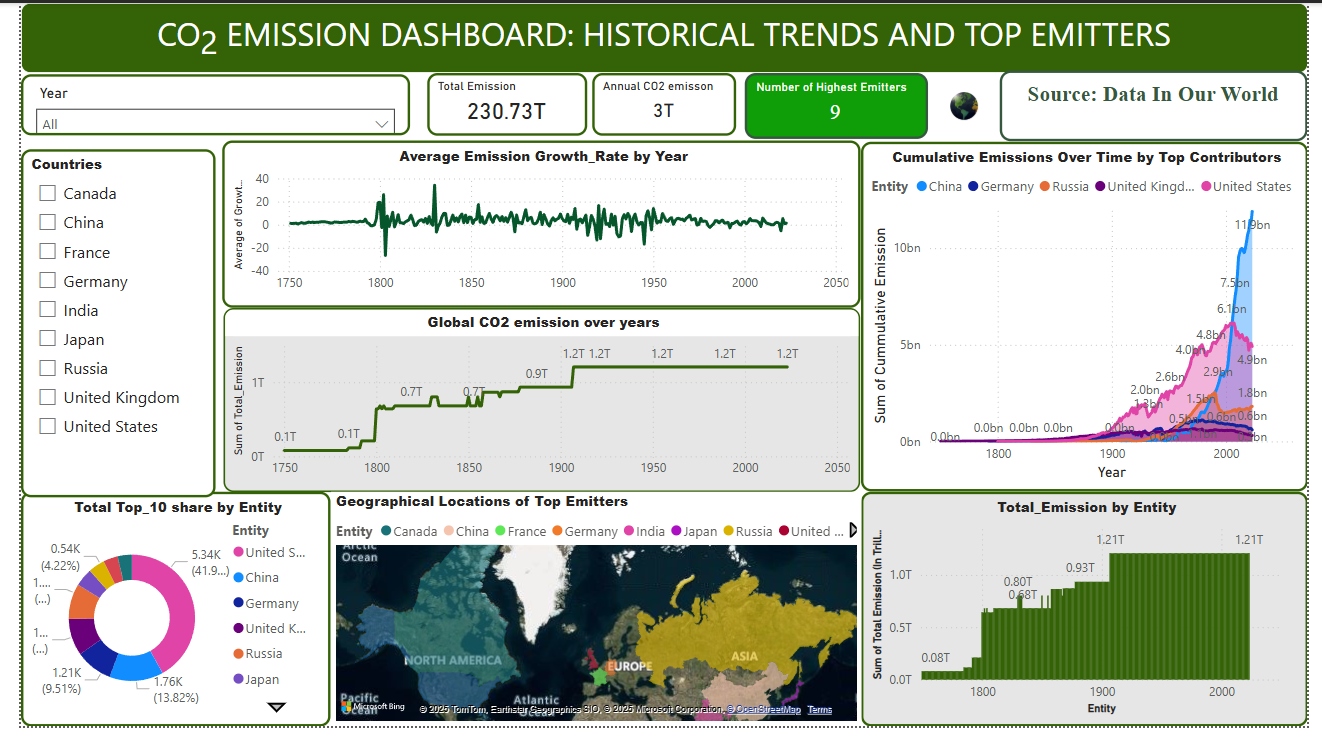

Layout of this report page (visuals, bound fields, positions):
{"tool":"powerbi","page":{"name":"Page 1","canvas":[1280,720],"ordinal":0},"visuals":[{"type":"textbox","box":[0,0,1280.5,69.9],"z":0},{"type":"lineChart","title":"Global CO2 emission over years","fields":{"Category":["Cummulative emissions by Entities.Year"],"Y":["Sum(Cummulative emissions by Entities.Total_Emission)"]},"box":[201.9,303.4,634,183.1],"z":1000},{"type":"lineChart","title":"Average Emission Growth_Rate by Year","fields":{"Y":["Avg(Cummulative emissions by Entities.Growth_Rate)"],"Category":["Cummulative emissions by Entities.Year"]},"box":[200.9,137,635,166.3],"z":2000},{"type":"clusteredColumnChart","title":"Total_Emission by Entity","fields":{"Category":["Cummulative emissions by Entities.Year"],"Y":["Sum(Cummulative emissions by Entities.Total_Emission)"]},"box":[835.9,486.5,444.6,233.3],"z":3000},{"type":"donutChart","title":"Total Top_10 share by Entity","fields":{"Category":["Cummulative emissions by Entities.Entity"],"Y":["Sum(Cummulative emissions by Entities.Top_10 share)"]},"box":[0,486.5,307.9,233.7],"z":4000},{"type":"areaChart","title":"Cumulative Emissions Over Time by Top Contributors","fields":{"Category":["Cummulative emissions by Entities.Year"],"Y":["Sum(Cummulative emissions by Entities.Cummulative Emission)"],"Series":["Cummulative emissions by Entities.Entity"]},"box":[835.9,138.1,444.6,348.4],"z":5000},{"type":"image","box":[907,77.4,61.7,48.1],"z":6000},{"type":"slicer","fields":{"Values":["Cummulative emissions by Entities.Year"]},"box":[0,71.1,387.1,60.7],"z":7000},{"type":"slicer","title":"Countries","fields":{"Values":["Cummulative emissions by Entities.Entity"]},"box":[0,145.4,193.5,346.3],"z":8000},{"type":"card","title":"Total Emission","fields":{"Values":["Sum(Cummulative emissions by Entities.Total_Emission)"]},"box":[403.8,69,159,62.8],"z":9000},{"type":"card","title":"Annual CO2 emisson","fields":{"Values":["Sum(Cummulative emissions by Entities.Annual_Co2_emission)"]},"box":[568.1,69,143.3,62.8],"z":10000},{"type":"card","title":"Number of Highest Emitters","fields":{"Values":["Count(Cummulative emissions by Entities.Top_10 share)"]},"box":[719.8,69,182,65.9],"z":11000},{"type":"textbox","box":[974,67,306.5,70.1],"z":12000},{"type":"filledMap","title":"Geographical Locations of Top Emitters","fields":{"Category":["Cummulative emissions by Entities.Entity"],"Series":["Cummulative emissions by Entities.Entity"]},"box":[308,487,528,233],"z":13000}]}

Visuals, with their boxes in screenshot pixels (x1, y1, x2, y2), scaled from the page's 1280x720 canvas onto the 1322x732 screenshot:
textbox: [left=0, top=0, right=1321, bottom=71]
"Global CO2 emission over years" lineChart: [left=209, top=308, right=863, bottom=495]
"Average Emission Growth_Rate by Year" lineChart: [left=207, top=139, right=863, bottom=308]
"Total_Emission by Entity" clusteredColumnChart: [left=863, top=495, right=1321, bottom=731]
"Total Top_10 share by Entity" donutChart: [left=0, top=495, right=318, bottom=731]
"Cumulative Emissions Over Time by Top Contributors" areaChart: [left=863, top=140, right=1321, bottom=495]
image: [left=937, top=79, right=1000, bottom=128]
slicer - Cummulative emissions by Entities.Year: [left=0, top=72, right=400, bottom=134]
"Countries" slicer: [left=0, top=148, right=200, bottom=500]
"Total Emission" card: [left=417, top=70, right=581, bottom=134]
"Annual CO2 emisson" card: [left=587, top=70, right=735, bottom=134]
"Number of Highest Emitters" card: [left=743, top=70, right=931, bottom=137]
textbox: [left=1006, top=68, right=1321, bottom=139]
"Geographical Locations of Top Emitters" filledMap: [left=318, top=495, right=863, bottom=731]
